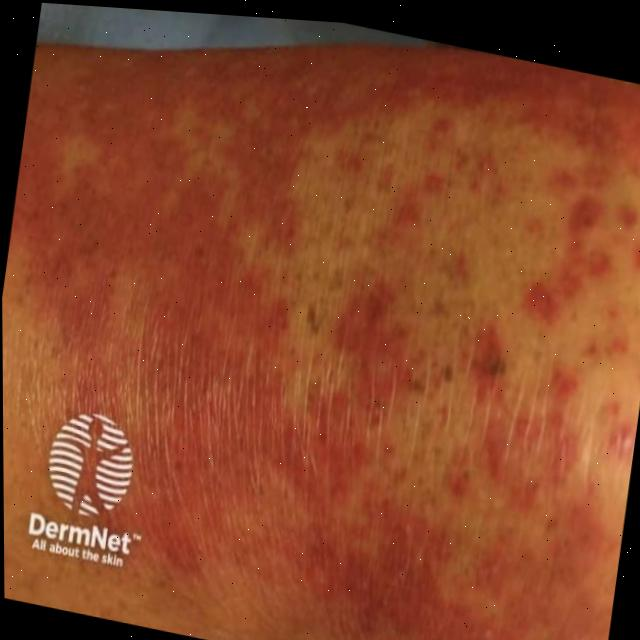Eczema: (33, 65, 640, 615)
